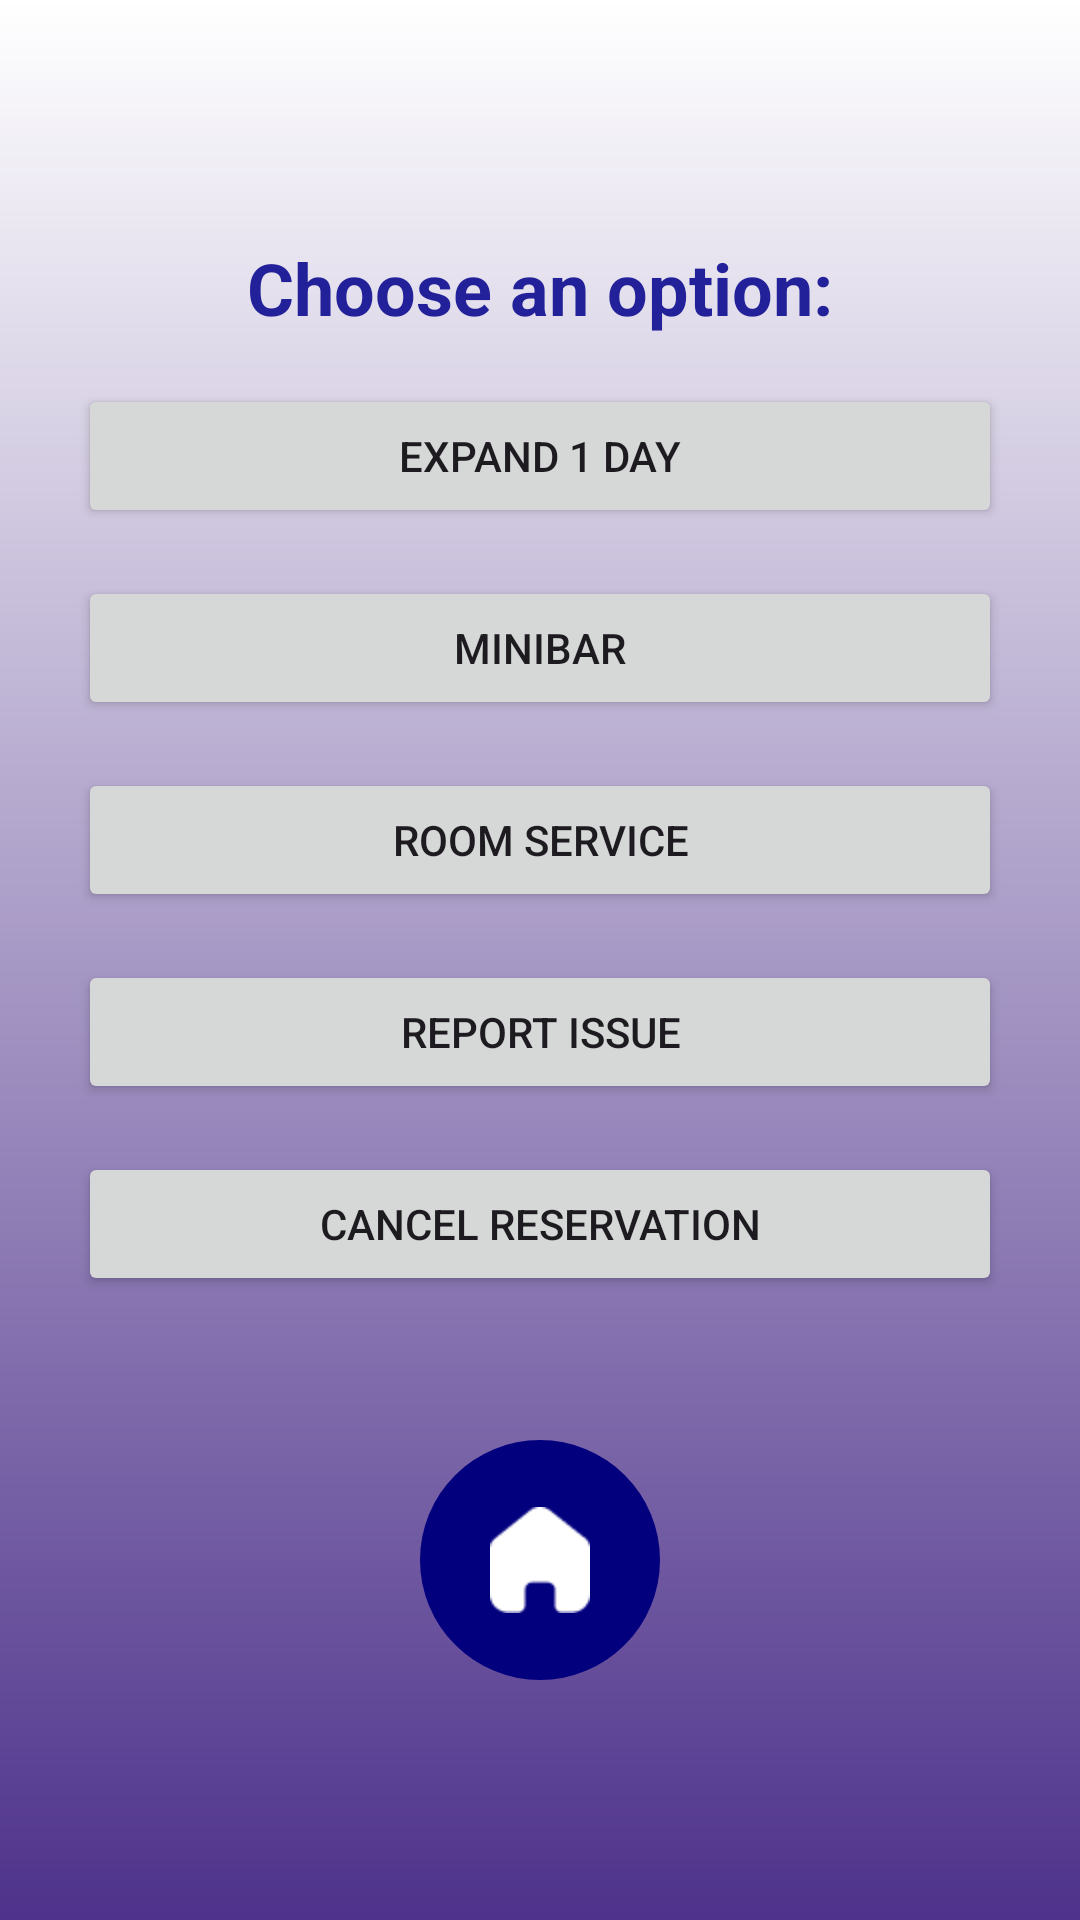

Icon bounding boxes for this 1080px×1920px phone screenshot, format [x1, y1, x2, y2]:
casuta: [420, 1440, 660, 1680]
